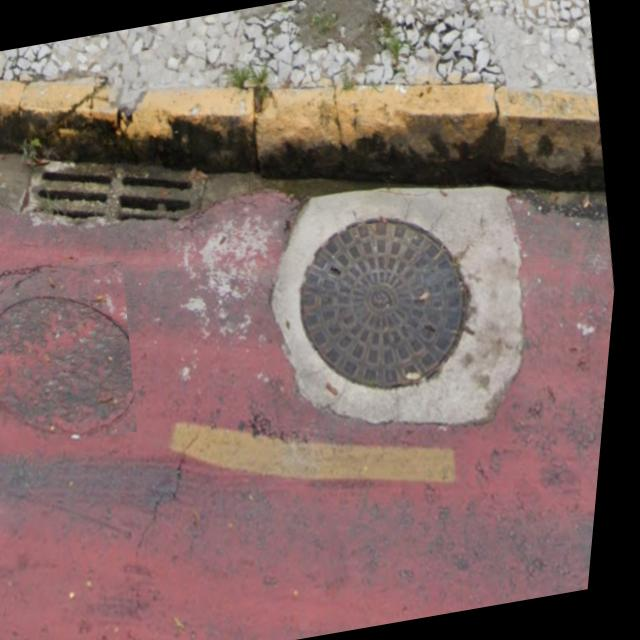Bueiro: (276, 186, 499, 423), (0, 259, 157, 458)
